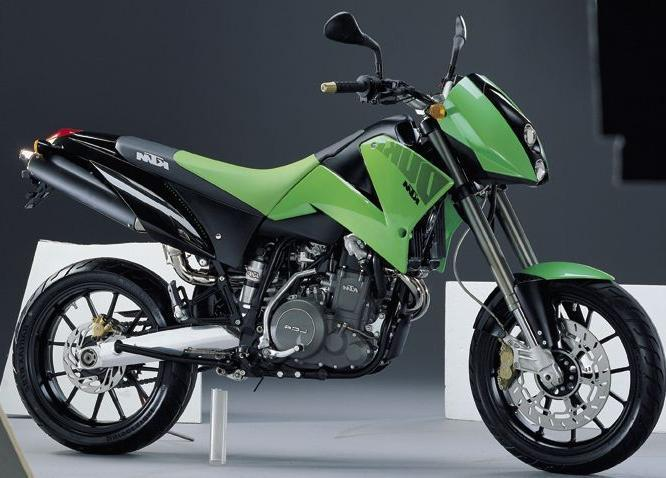motorcycle: (4, 9, 666, 478)
